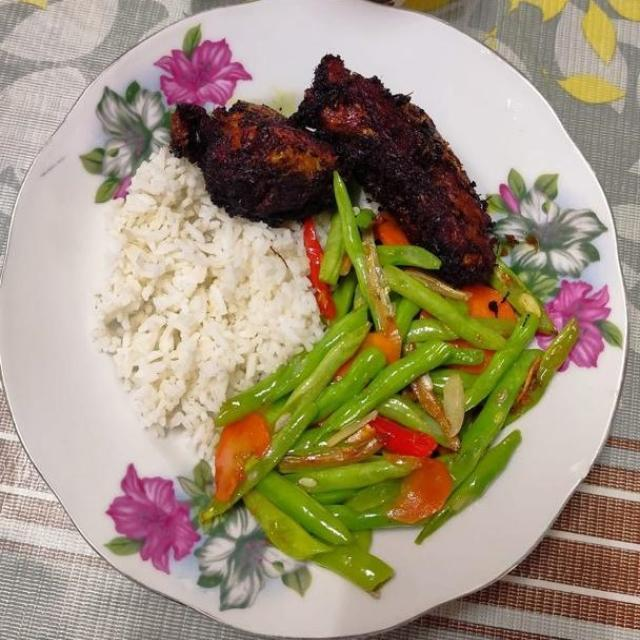Chicken: (169, 53, 497, 284)
Plate: (3, 343, 90, 488), (60, 477, 78, 501)
Rice: (90, 146, 322, 465)
Vegetables: (211, 174, 581, 591)
